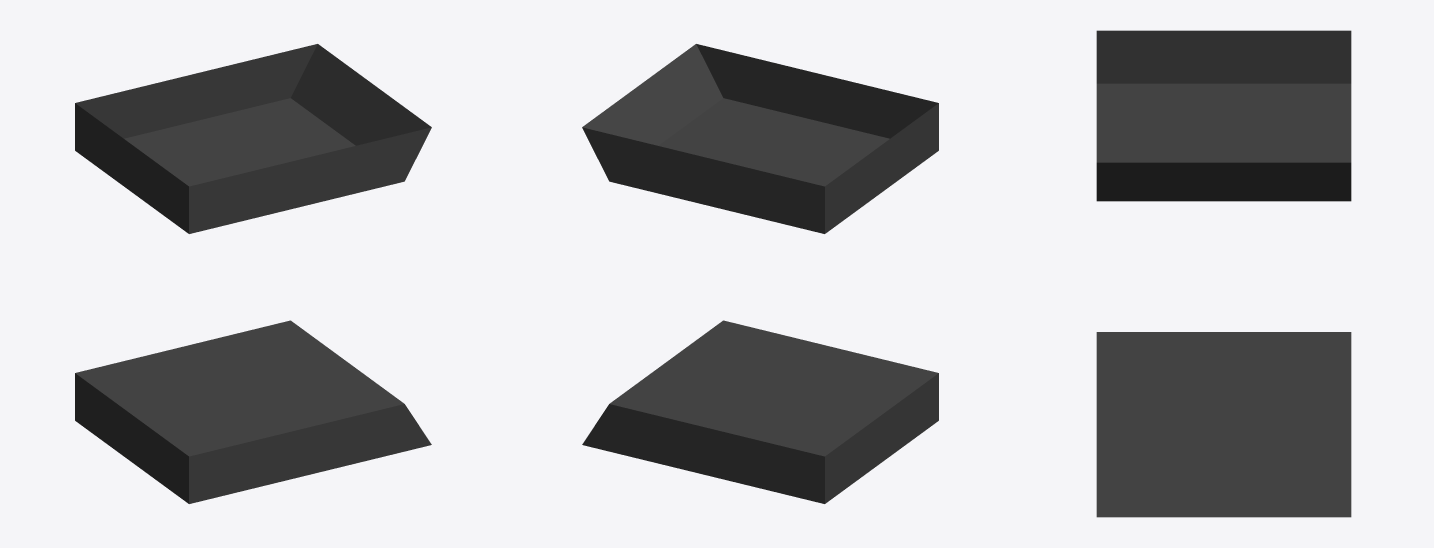
File: Swi_MenBaShou2_off.fbx
3 renders of one model, left to right at view 1: azimuth 30°, elevation 25°; view 2: azimuth 150°, elevation 25°; view 3: azimuth 270°, elevation 25°, orthographic. The views are drawn at different scales.
Visible parts, largest first — view 1: Box004; view 2: Box004; view 3: Box004.
Part boxes in pixels (x1,y1,x2,y2): Box004: [75, 44, 431, 503]; Box004: [582, 44, 938, 503]; Box004: [1096, 30, 1351, 517].
Size of the model in its own units: 1 by 1 by 1.
